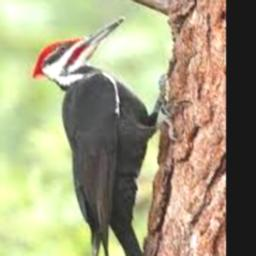Woodpecker: (32, 17, 186, 256)
